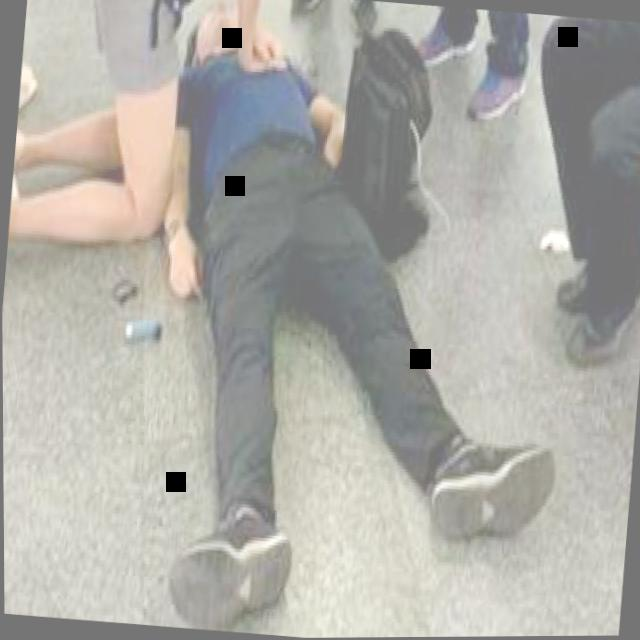Fall-Detected: (106, 0, 594, 639)
